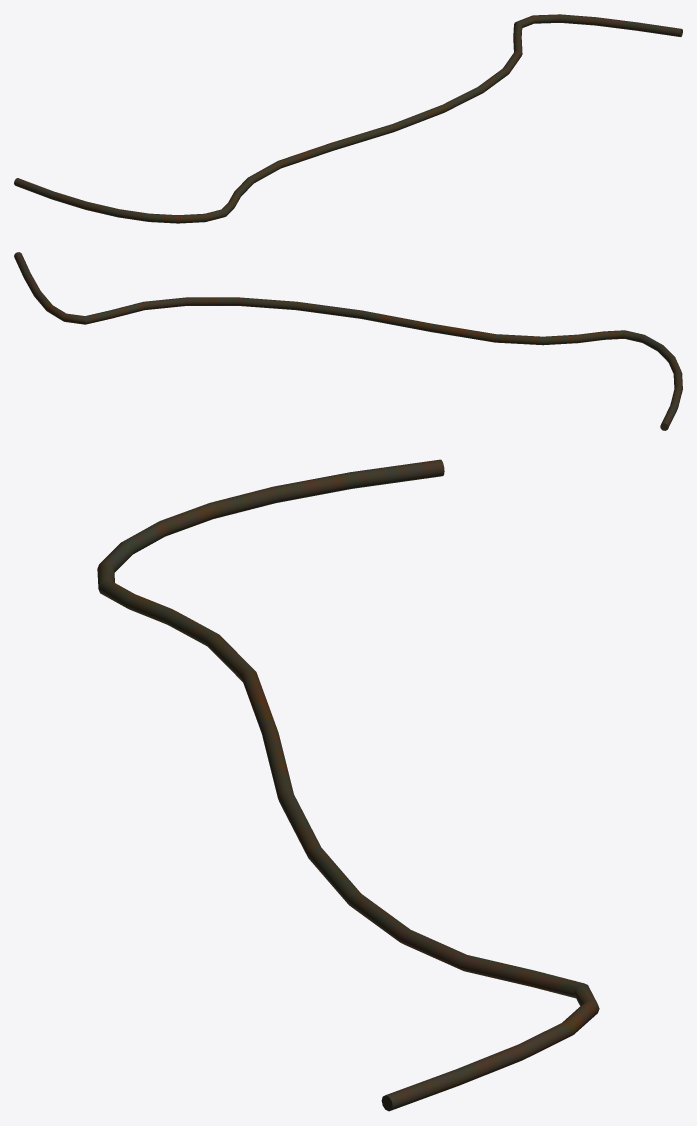
Rendered from cable1.FBX.
The picture shows the model from 3 angles, top to bottom: view 1: azimuth 30°, elevation 25°; view 2: azimuth 150°, elevation 25°; view 3: azimuth 270°, elevation 25°; orthographic projection. The views are drawn at different scales.
Visible parts, largest first — view 1: Line001; view 2: Line001; view 3: Line001.
Part boxes in pixels (bbox=[...]): Line001: bbox=[14, 14, 682, 223]; Line001: bbox=[14, 252, 682, 430]; Line001: bbox=[97, 459, 599, 1111].
Size of the model in its own units: 352 by 3.74 by 116.
Materials: 1 (1 with a texture image).
